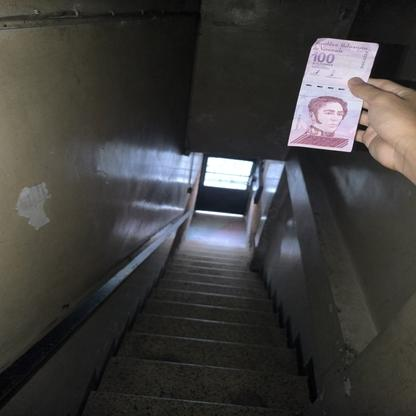one_hundred-front-vef: (286, 36, 380, 152)
